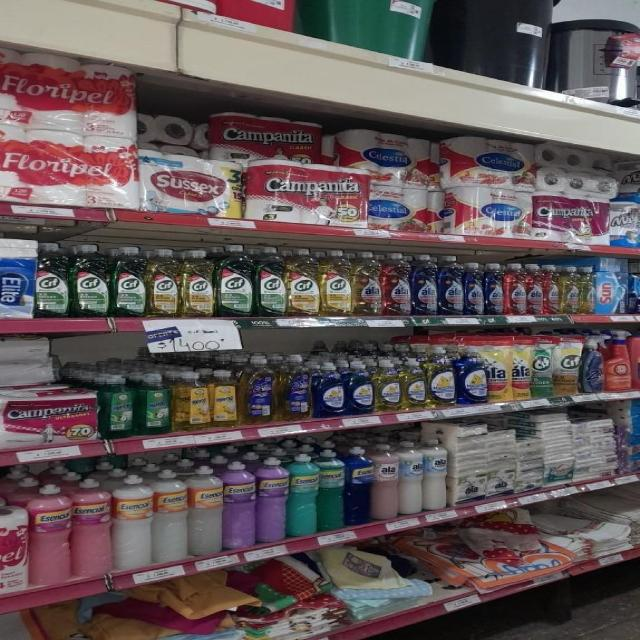ala_conc_amarillo: (353, 251, 381, 316), (560, 265, 580, 314), (579, 266, 595, 314)
ala_conc_azul: (412, 253, 437, 316), (438, 254, 463, 316), (464, 260, 483, 315), (484, 262, 503, 316)
ala_conc_rojo: (382, 252, 410, 316), (504, 264, 526, 316), (526, 264, 542, 315), (543, 264, 559, 315)
ala_crem_blanco: (399, 441, 423, 515), (424, 439, 447, 512)
ala_crem_rosado: (345, 446, 371, 526), (372, 443, 398, 520)
ala_sachet_amarillo: (488, 336, 508, 402), (510, 335, 530, 400)
cif_conc_bot_amarilla: (181, 248, 214, 317), (147, 248, 180, 317), (286, 248, 318, 316), (320, 249, 351, 316)
cif_conc_botella_verde: (71, 243, 109, 318), (216, 245, 253, 317), (35, 243, 69, 318), (111, 245, 145, 318), (255, 246, 285, 317)
cif_conc_sachet_amarillo: (554, 336, 580, 396), (531, 336, 552, 398)
heroe: (113, 473, 152, 570), (189, 466, 222, 556), (319, 449, 344, 532)
magistral_con_amarillo: (427, 345, 455, 407), (374, 358, 401, 412), (402, 358, 425, 410)
magistral_con_azul: (313, 360, 345, 418), (457, 346, 486, 404), (346, 359, 373, 415)
zorro: (240, 356, 275, 424), (277, 356, 311, 421)
